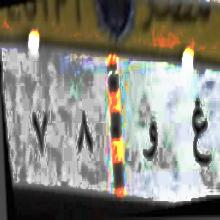7: (32, 105, 47, 156)
8: (76, 111, 93, 159)
ghayn: (190, 93, 211, 177)
waw: (142, 115, 161, 168)
